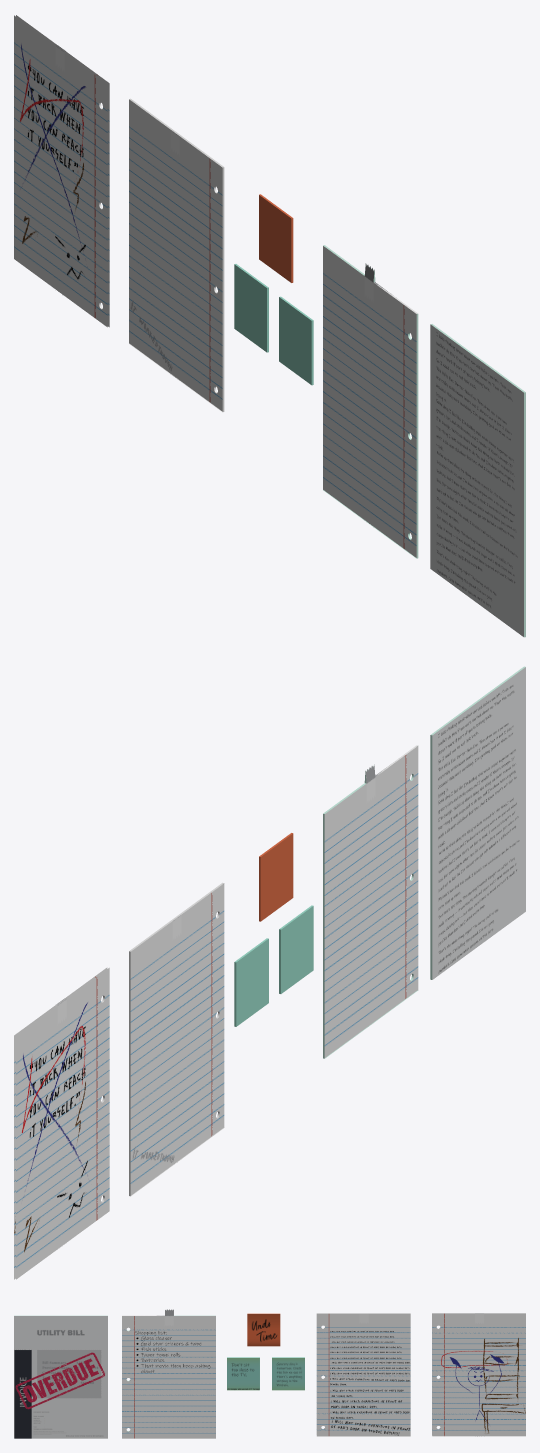
The model's file is NotesKidDad.fbx.
3 renders of one model, top to bottom at view 1: azimuth 30°, elevation 25°; view 2: azimuth 150°, elevation 25°; view 3: azimuth 270°, elevation 25°, orthographic. The views are drawn at different scales.
Parts seen in each view (by area): view 1: DadNote.2.GroceryList, DadNote.3.Bill, KidNote.001, KidNote.002, Dad.StickyNote.4.Warning, Dad.StickyNote.1.Reminder, MomStickyNote.009; view 2: DadNote.2.GroceryList, DadNote.3.Bill, KidNote.001, KidNote.002, Dad.StickyNote.4.Warning, Dad.StickyNote.1.Reminder, MomStickyNote.009; view 3: KidNote.001, DadNote.2.GroceryList, DadNote.3.Bill, KidNote.002, MomStickyNote.009, Dad.StickyNote.1.Reminder, Dad.StickyNote.4.Warning.
Part boxes in pixels (<box>): DadNote.2.GroceryList: <box>323,245,418,558</box>; DadNote.3.Bill: <box>430,324,525,637</box>; KidNote.001: <box>129,98,224,412</box>; KidNote.002: <box>14,15,109,327</box>; Dad.StickyNote.4.Warning: <box>279,296,313,385</box>; Dad.StickyNote.1.Reminder: <box>234,264,268,352</box>; MomStickyNote.009: <box>259,194,293,282</box>; DadNote.2.GroceryList: <box>323,745,418,1058</box>; DadNote.3.Bill: <box>430,666,525,979</box>; KidNote.001: <box>129,882,224,1196</box>; KidNote.002: <box>14,967,109,1279</box>; Dad.StickyNote.4.Warning: <box>279,905,313,993</box>; Dad.StickyNote.1.Reminder: <box>234,938,268,1026</box>; MomStickyNote.009: <box>259,833,293,921</box>; KidNote.001: <box>316,1313,410,1436</box>; DadNote.2.GroceryList: <box>122,1309,215,1438</box>; DadNote.3.Bill: <box>14,1315,107,1438</box>; KidNote.002: <box>432,1313,525,1436</box>; MomStickyNote.009: <box>247,1313,280,1346</box>; Dad.StickyNote.1.Reminder: <box>272,1357,304,1390</box>; Dad.StickyNote.4.Warning: <box>227,1357,259,1390</box>.
Size of the model in its own units: 1.54 by 200 by 717.
Materials: 16 (11 with a texture image).
